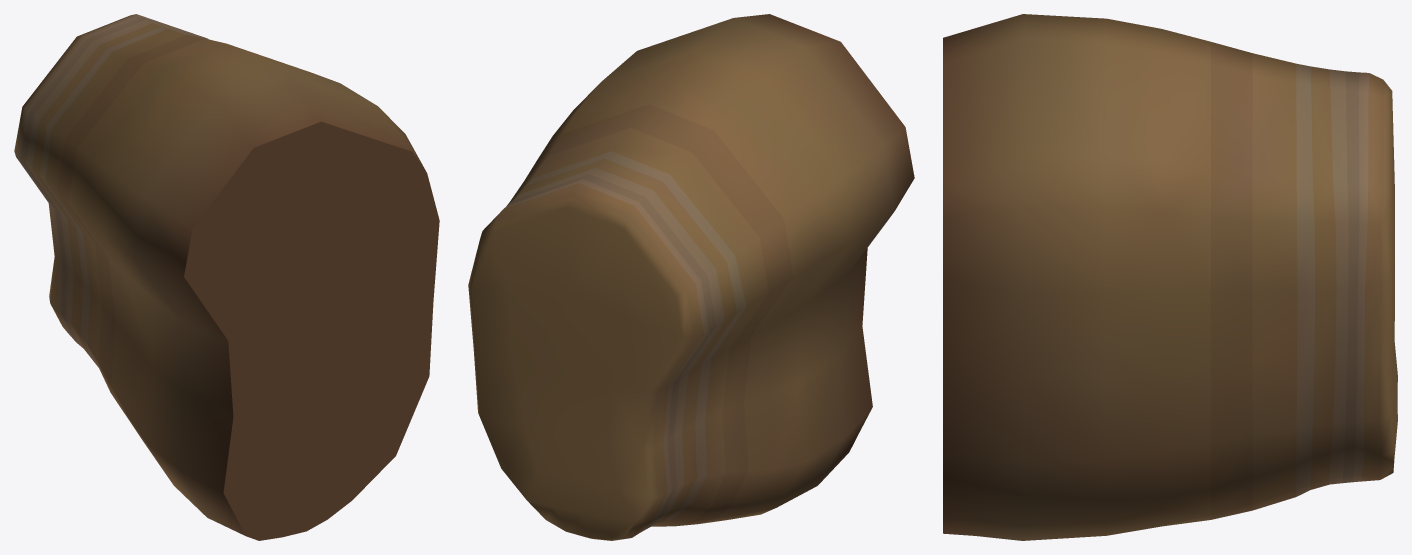
The model's file is SandStoneMesaMedium.001.glb.
3 renders of one model, left to right at view 1: azimuth 30°, elevation 25°; view 2: azimuth 150°, elevation 25°; view 3: azimuth 270°, elevation 25°, orthographic. The views are drawn at different scales.
Visible parts, largest first — view 1: SandStoneMesaMedium.001; view 2: SandStoneMesaMedium.001; view 3: SandStoneMesaMedium.001.
Boxes of the visible parts, left/top/right/bottom form: SandStoneMesaMedium.001: left=14, top=14, right=439, bottom=540; SandStoneMesaMedium.001: left=468, top=14, right=914, bottom=540; SandStoneMesaMedium.001: left=943, top=14, right=1397, bottom=540.
Size of the model in its own units: 2577 by 3751 by 3045.
